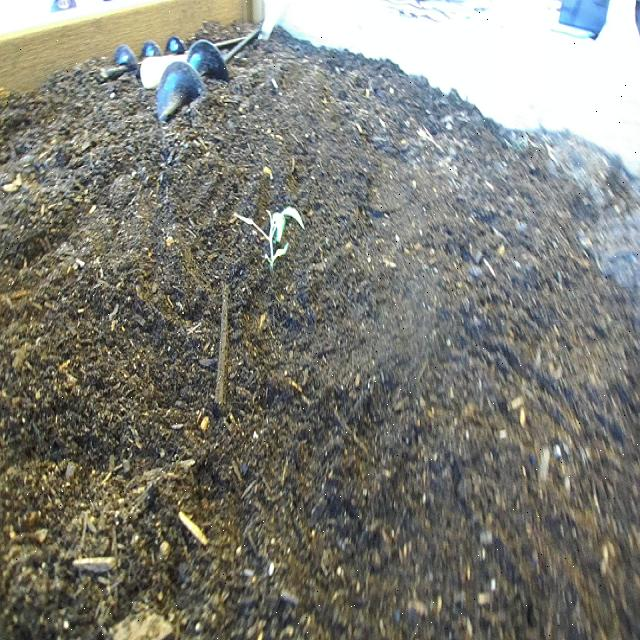Healthy: (230, 199, 308, 273)
